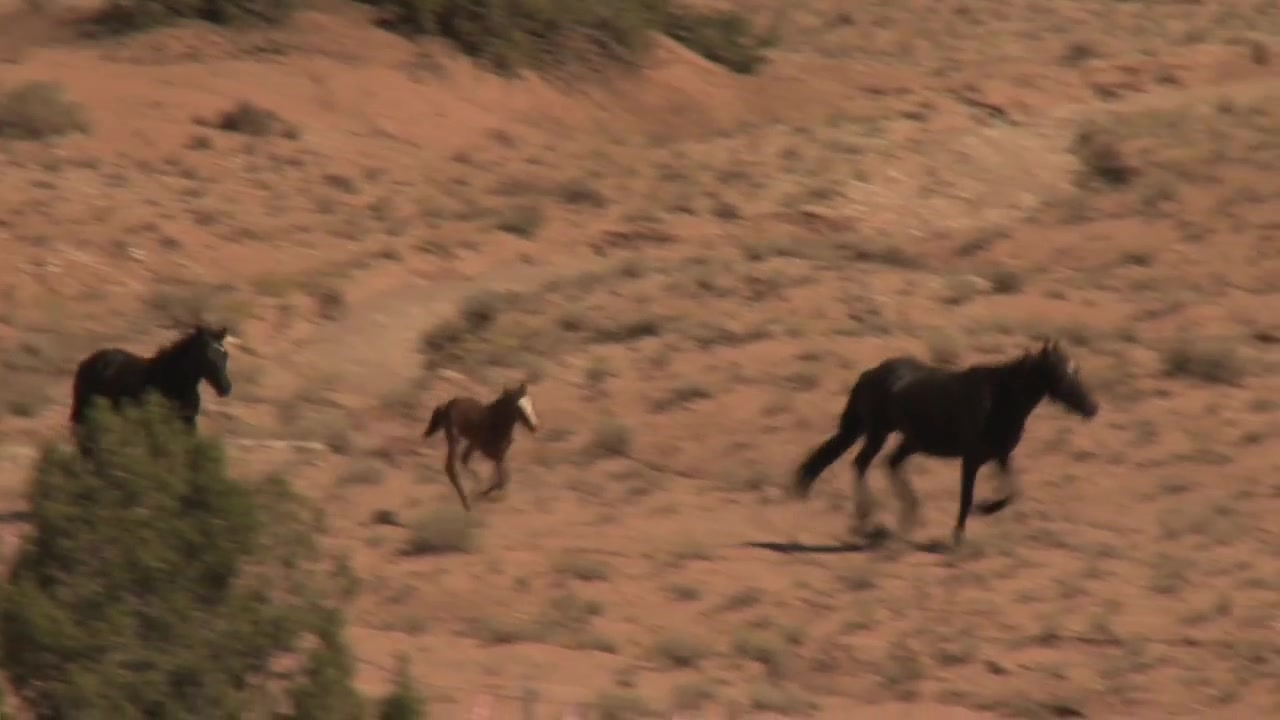horse: (788, 336, 1101, 553), (71, 319, 239, 444), (418, 381, 543, 510)
